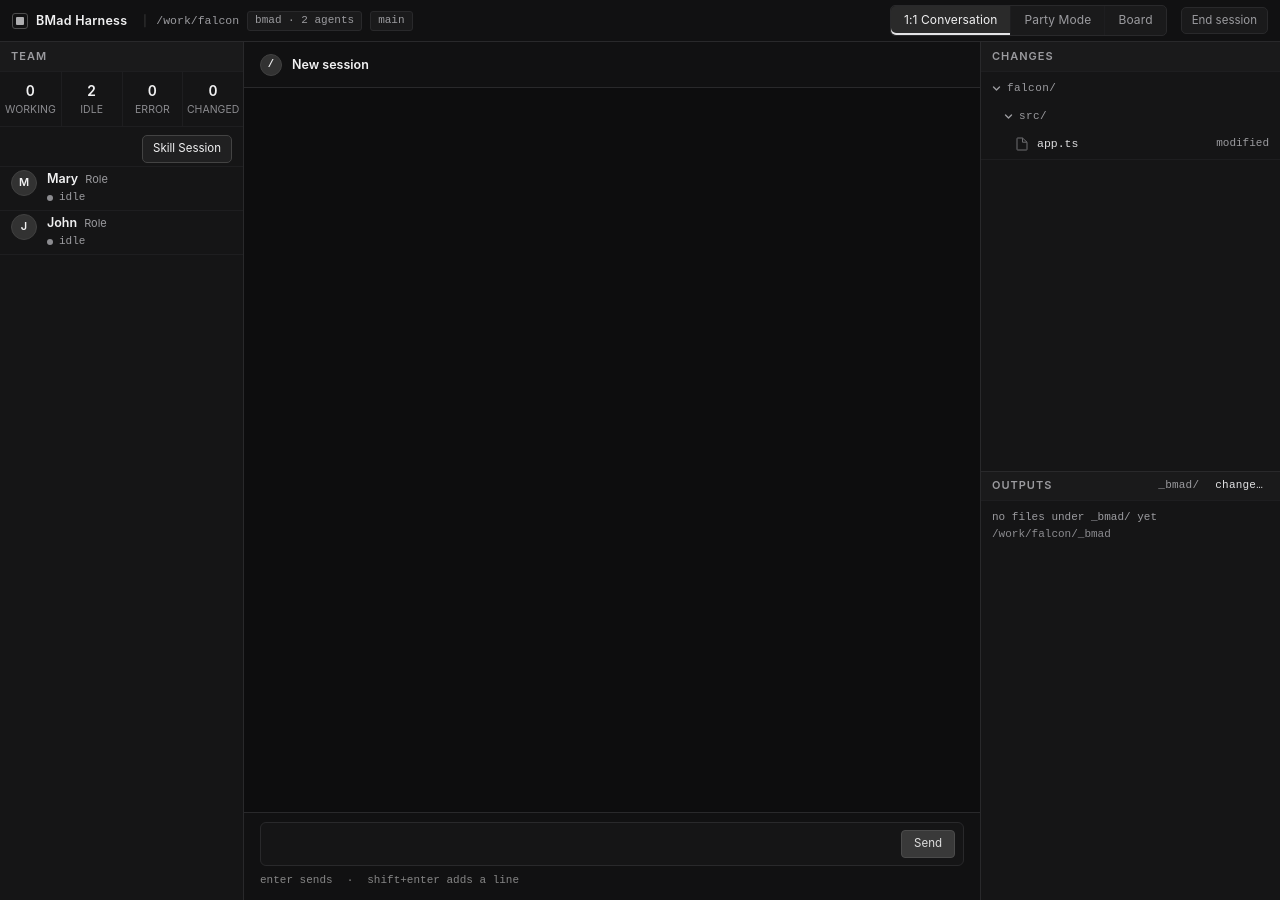
Test: App, the Board › moves the first figure when a persona goes to work, in the same render and in the same nodes, with no announcement
This screenshot has width=1280, height=900.
Click the button "Board". click: (1136, 20)
box: [1106, 6, 1166, 35]
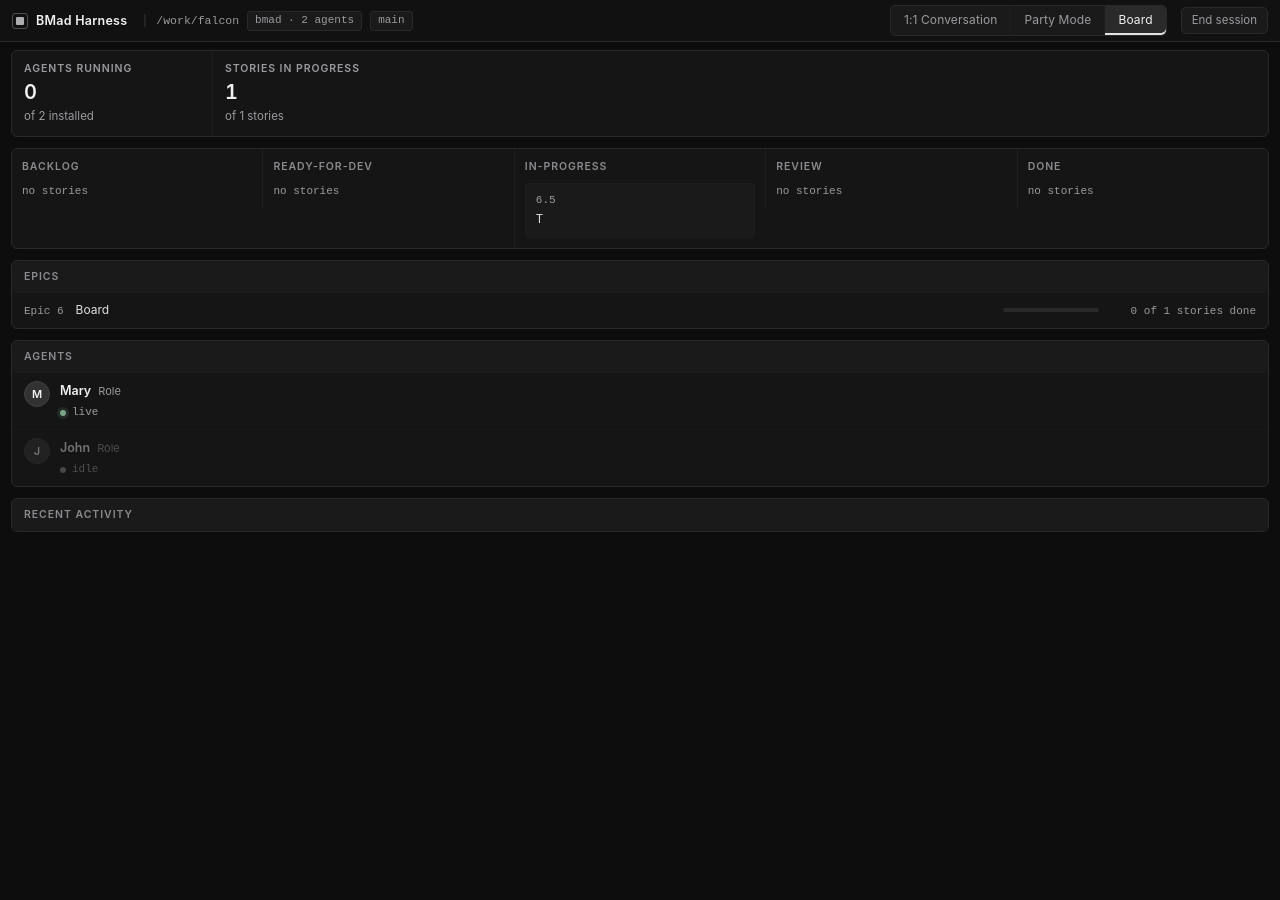
Expected: the text with class "board-epic-progress" reads "0 of 1 stories done", [1131, 305, 1256, 317]
